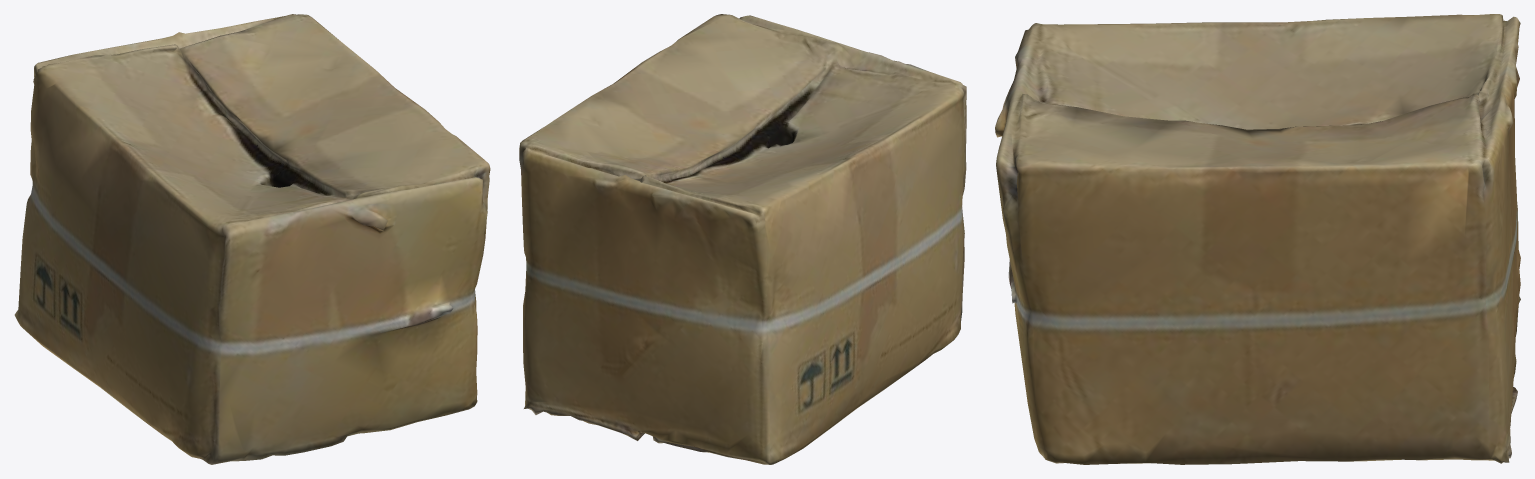
Rendered from cardboard_box_01.glb.
The picture shows the model from 3 angles, left to right: view 1: azimuth 30°, elevation 25°; view 2: azimuth 150°, elevation 25°; view 3: azimuth 270°, elevation 25°; orthographic projection. The views are drawn at different scales.
Parts seen in each view (by area): view 1: cardboard_box_01; view 2: cardboard_box_01; view 3: cardboard_box_01.
Boxes of the visible parts, x1,y1,x2,y2 form: cardboard_box_01: (14,14,490,464); cardboard_box_01: (519,14,966,464); cardboard_box_01: (995,14,1520,464).
Size of the model in its own units: 0.3868 by 0.3418 by 0.5159.
Materials: 1 (1 with a texture image).
